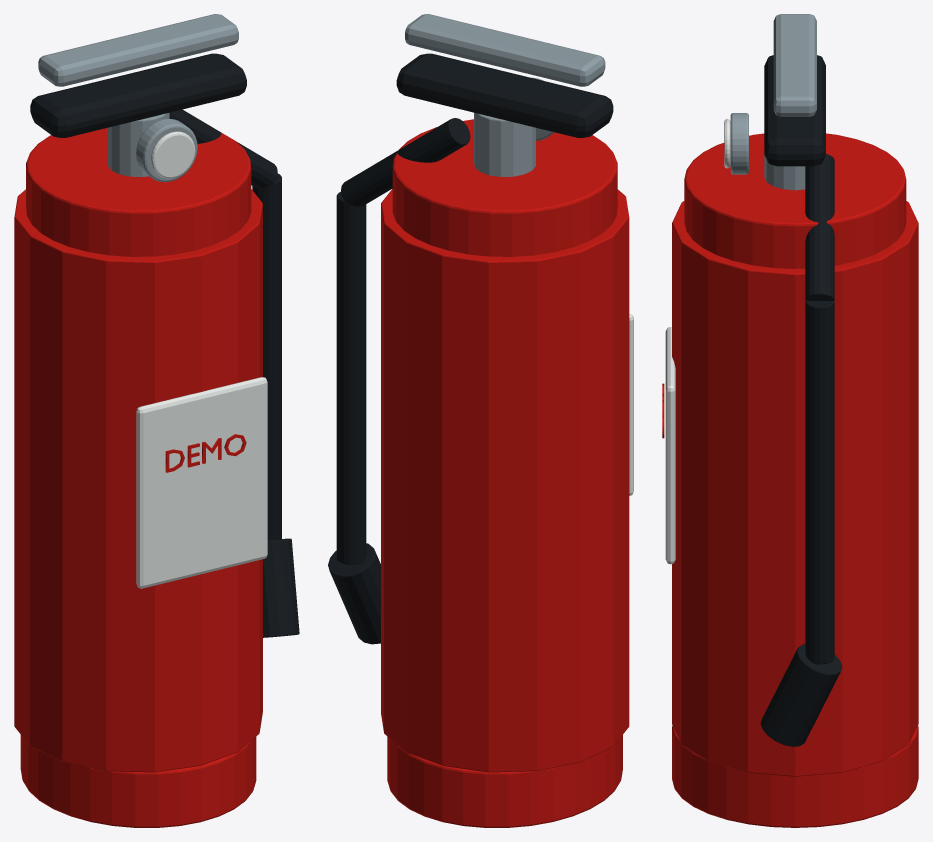
The model's file is edited.glb.
The picture shows the model from 3 angles, left to right: view 1: azimuth 30°, elevation 25°; view 2: azimuth 150°, elevation 25°; view 3: azimuth 270°, elevation 25°; orthographic projection.
Visible parts, largest first — view 1: BODY_Cylinder, LABEL_Plate, BODY_Shoulder, BODY_Bottom, HANDLE_Fixed, LEVER, HOSE_Side, NOZZLE, VALVE_Neck, GAUGE_Face, HOSE_Upper, GAUGE_Body (+1 smaller); view 2: BODY_Cylinder, BODY_Shoulder, BODY_Bottom, HOSE_Side, HANDLE_Fixed, LEVER, HOSE_Upper, VALVE_Neck, NOZZLE, LABEL_Plate; view 3: BODY_Cylinder, BODY_Shoulder, BODY_Bottom, HOSE_Side, NOZZLE, LEVER, HANDLE_Fixed, HOSE_Upper, LABEL_Plate, GAUGE_Body, VALVE_Neck.
Boxes of the visible parts, <box> form: BODY_Cylinder: <box>14,189,262,772</box>; LABEL_Plate: <box>136,377,267,588</box>; BODY_Shoulder: <box>26,128,251,256</box>; BODY_Bottom: <box>20,735,256,827</box>; HANDLE_Fixed: <box>30,53,246,137</box>; LEVER: <box>38,14,238,86</box>; HOSE_Side: <box>252,173,281,540</box>; NOZZLE: <box>263,538,299,637</box>; VALVE_Neck: <box>107,112,169,176</box>; GAUGE_Face: <box>151,131,195,178</box>; HOSE_Upper: <box>169,109,277,188</box>; GAUGE_Body: <box>136,119,197,182</box>; BODY_Cylinder: <box>381,189,629,772</box>; BODY_Shoulder: <box>392,119,617,256</box>; BODY_Bottom: <box>387,735,622,827</box>; HOSE_Side: <box>336,192,366,564</box>; HANDLE_Fixed: <box>396,53,613,137</box>; LEVER: <box>405,14,605,86</box>; HOSE_Upper: <box>341,118,470,206</box>; VALVE_Neck: <box>474,112,535,176</box>; NOZZLE: <box>328,543,380,644</box>; LABEL_Plate: <box>629,314,633,495</box>; BODY_Cylinder: <box>672,201,918,776</box>; BODY_Shoulder: <box>684,133,906,268</box>; BODY_Bottom: <box>672,725,918,827</box>; HOSE_Side: <box>805,301,834,664</box>; NOZZLE: <box>760,644,842,746</box>; LEVER: <box>773,14,816,116</box>; HANDLE_Fixed: <box>764,55,825,166</box>; HOSE_Upper: <box>805,154,834,300</box>; LABEL_Plate: <box>665,327,675,564</box>; GAUGE_Body: <box>730,113,748,174</box>; VALVE_Neck: <box>764,155,805,190</box>.
Size of the model in its own units: 0.2496 by 0.649 by 0.2078.
